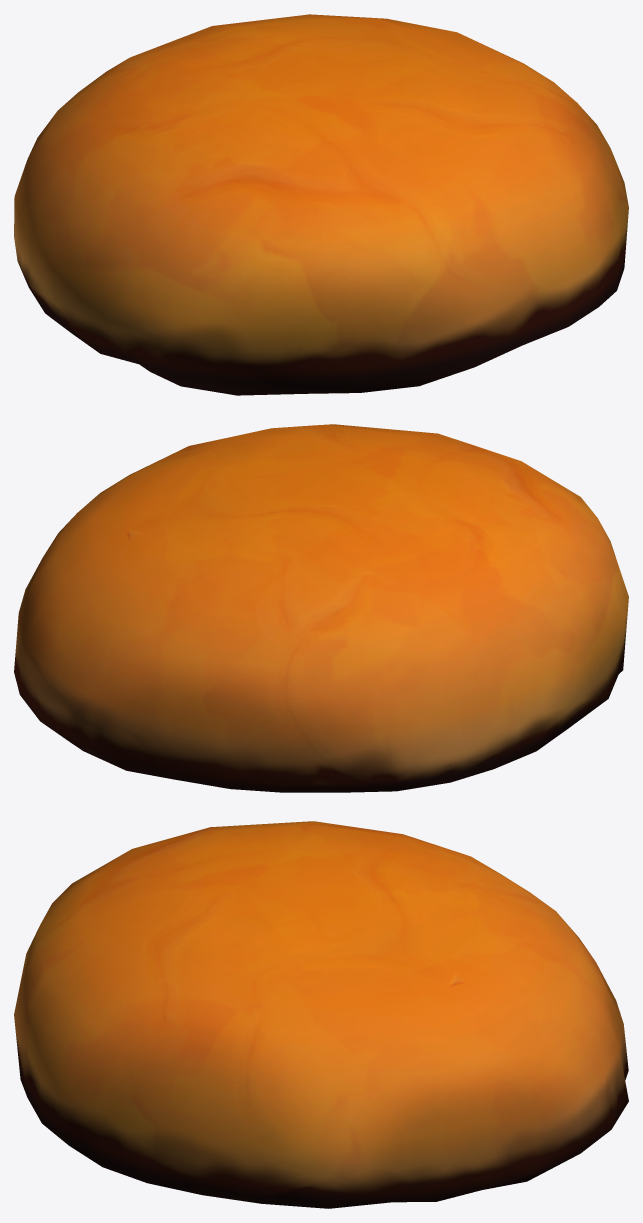
File: SM_BurgerBunBurntTop.glb
3 renders of one model, top to bottom at view 1: azimuth 30°, elevation 25°; view 2: azimuth 150°, elevation 25°; view 3: azimuth 270°, elevation 25°, orthographic. The views are drawn at different scales.
Parts seen in each view (by area): view 1: SM_BurgerBunBurntTop; view 2: SM_BurgerBunBurntTop; view 3: SM_BurgerBunBurntTop.
Part boxes in pixels (bbox=[...]): SM_BurgerBunBurntTop: bbox=[14, 14, 628, 395]; SM_BurgerBunBurntTop: bbox=[14, 424, 628, 792]; SM_BurgerBunBurntTop: bbox=[14, 821, 628, 1208].
Size of the model in its own units: 0.1859 by 0.0673 by 0.1859.
1 material, 1 textured.
